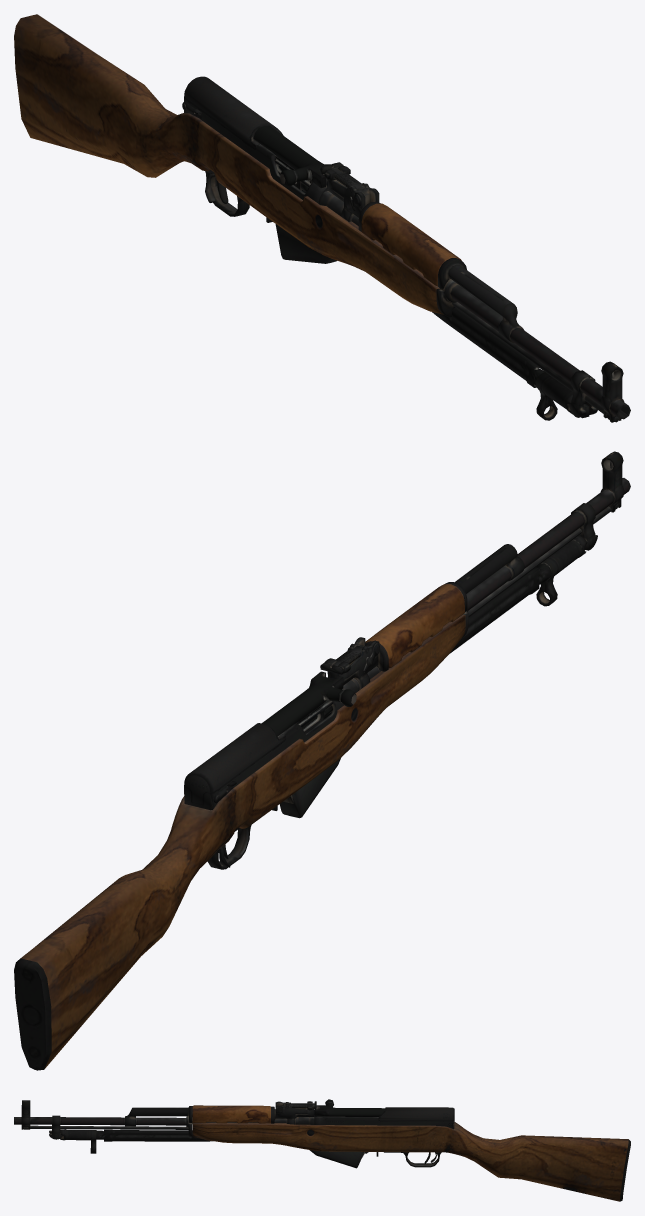
File: 56式半自动步枪.FBX
The picture shows the model from 3 angles, top to bottom: view 1: azimuth 30°, elevation 25°; view 2: azimuth 150°, elevation 25°; view 3: azimuth 270°, elevation 25°; orthographic projection. The views are drawn at different scales.
Parts seen in each view (by area): view 1: 56式半自动步枪; view 2: 56式半自动步枪; view 3: 56式半自动步枪.
Boxes of the visible parts, x1=… form: 56式半自动步枪: x1=14, y1=14, x2=630, y2=422; 56式半自动步枪: x1=14, y1=451, x2=630, y2=1070; 56式半自动步枪: x1=14, y1=1099, x2=630, y2=1201.
Size of the model in its own units: 0.0536 by 0.1837 by 1.02.
